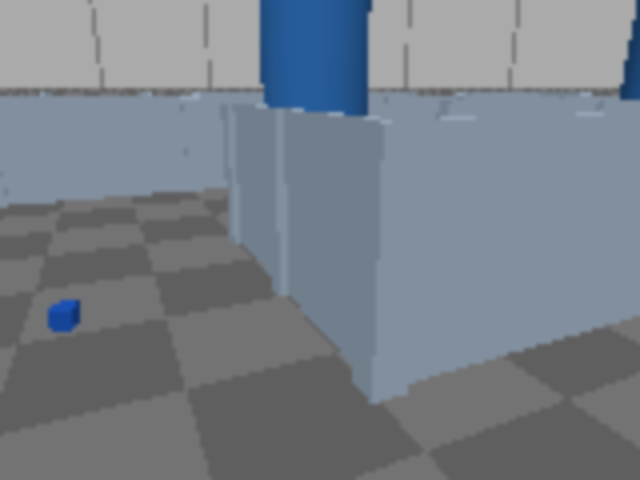person: (613, 0, 638, 173)
puck: (47, 301, 81, 332)
